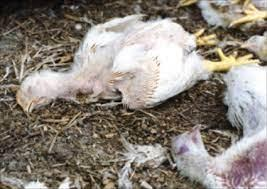AbNormal: (14, 15, 240, 115), (173, 66, 267, 189)
